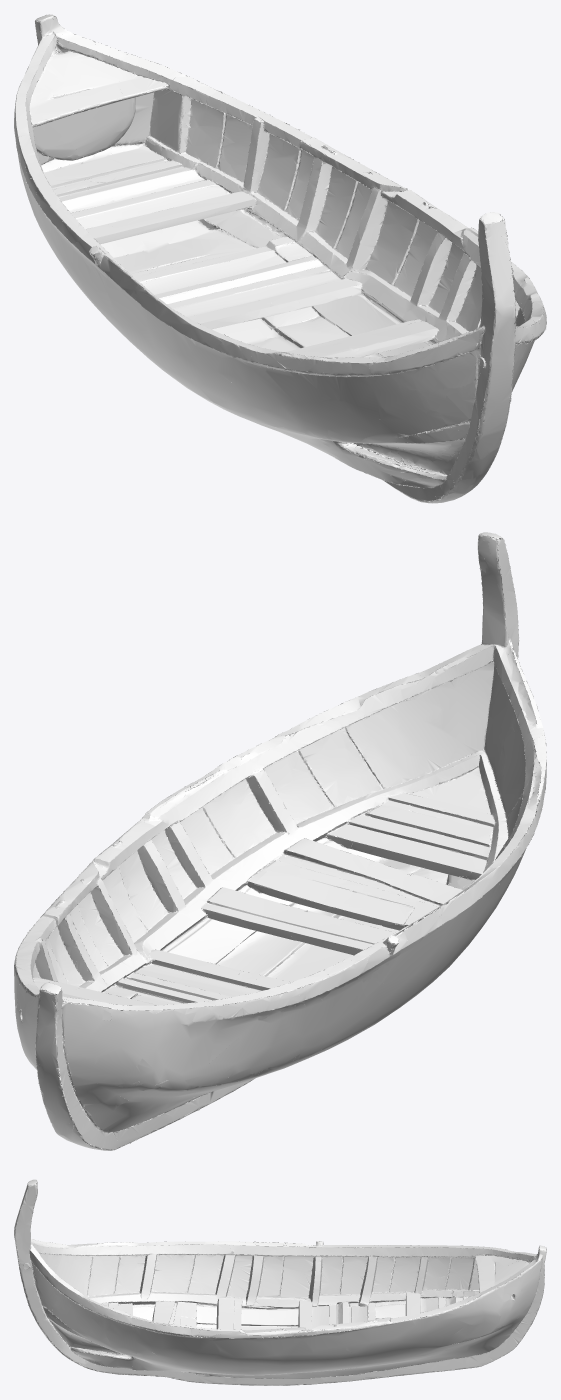
File: beach-fishing-boat.glb
The picture shows the model from 3 angles, top to bottom: view 1: azimuth 30°, elevation 25°; view 2: azimuth 150°, elevation 25°; view 3: azimuth 270°, elevation 25°; orthographic projection. The views are drawn at different scales.
Visible parts, largest first — view 1: model; view 2: model; view 3: model.
Boxes of the visible parts, x1,y1,x2,y2 form: model: (14,14,546,503); model: (14,532,546,1150); model: (14,1179,546,1385).
Bounding box in the file's own units: 0.763 × 0.8064 × 1.9.
1 material, 1 textured.
